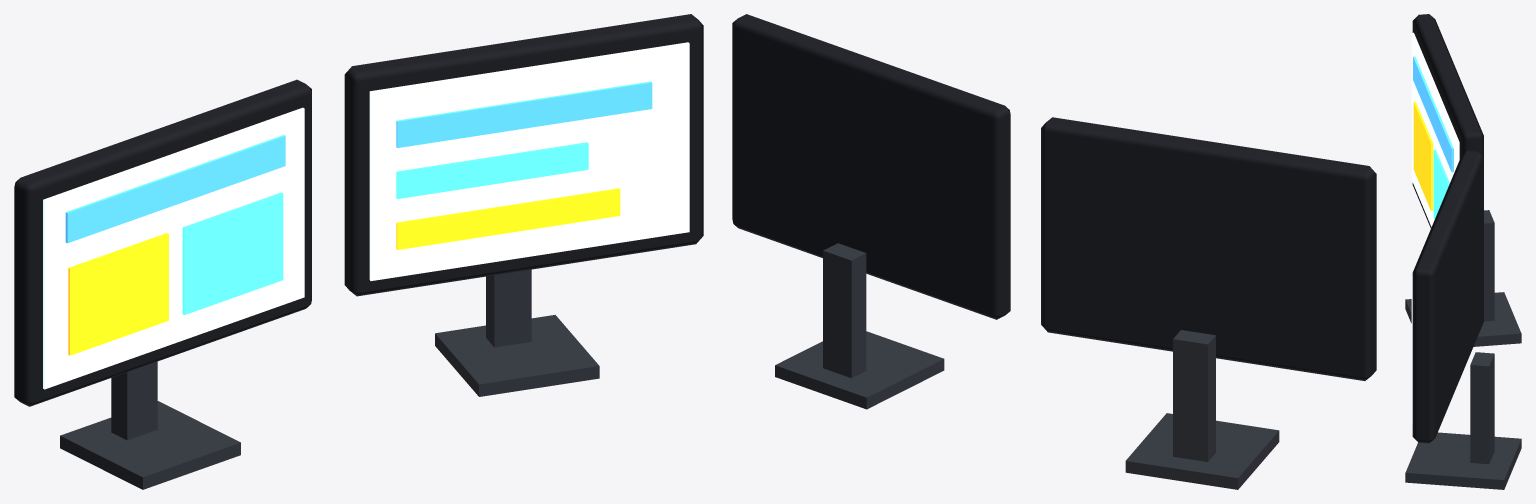
The model's file is station_intake_ausstattung_1_1.glb.
3 views of the same model, side by side, from view 1: azimuth 30°, elevation 25°; view 2: azimuth 150°, elevation 25°; view 3: azimuth 270°, elevation 25° (orthographic). The views are drawn at different scales.
Visible parts, largest first — view 1: station_intake_ausstattung_1_1; view 2: station_intake_ausstattung_1_1; view 3: station_intake_ausstattung_1_1.
Boxes of the visible parts, left/top/right/bottom form: station_intake_ausstattung_1_1: left=14, top=14, right=703, bottom=489; station_intake_ausstattung_1_1: left=732, top=14, right=1376, bottom=489; station_intake_ausstattung_1_1: left=1405, top=14, right=1521, bottom=489.
Size of the model in its own units: 0.7967 by 0.364 by 0.1505.
